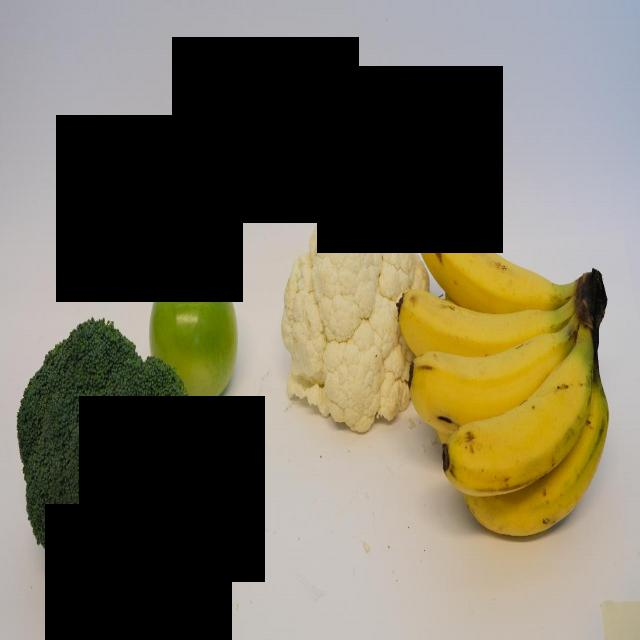apple: (143, 249, 244, 414)
banana: (476, 377, 635, 544), (417, 160, 562, 320), (444, 354, 586, 498), (409, 319, 569, 444), (398, 274, 563, 354)
broccoli: (13, 312, 197, 607)
cauliflower: (274, 188, 433, 424)
